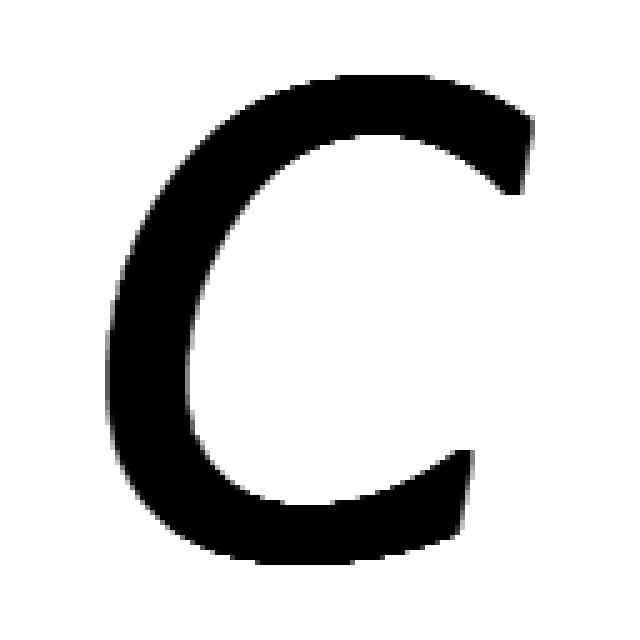C: (110, 75, 535, 565)
